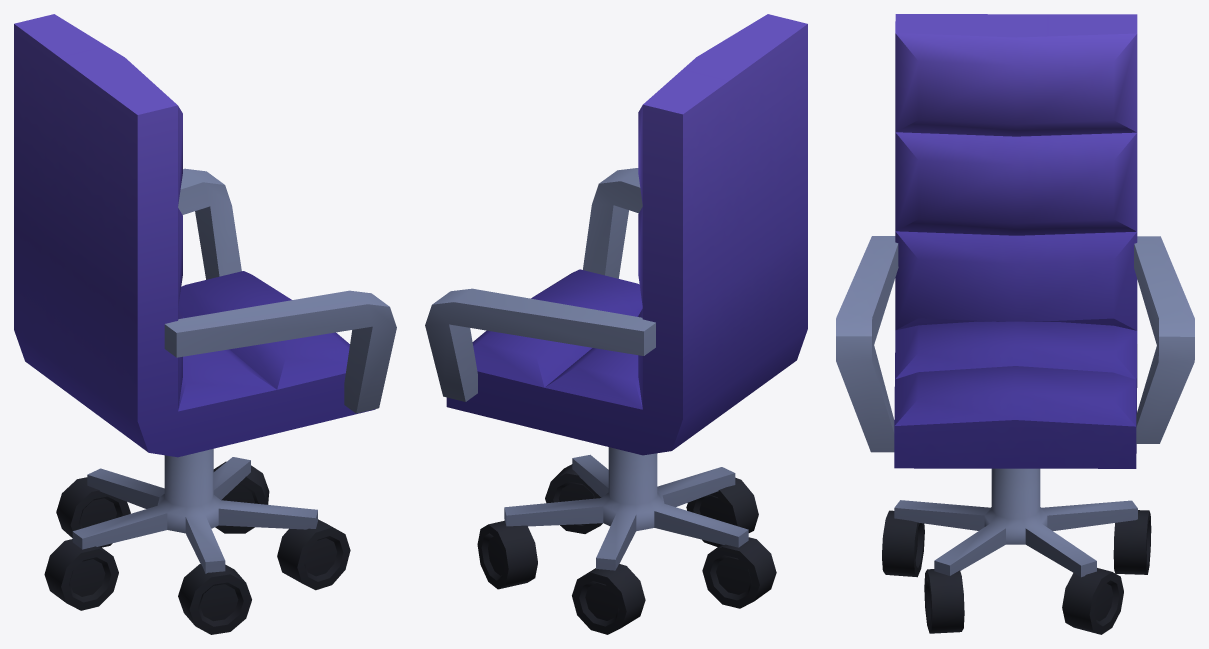
File: DeskChair.fbx
3 renders of one model, left to right at view 1: azimuth 30°, elevation 25°; view 2: azimuth 150°, elevation 25°; view 3: azimuth 270°, elevation 25°, orthographic. The views are drawn at different scales.
Visible parts, largest first — view 1: DeskChair; view 2: DeskChair; view 3: DeskChair.
Boxes of the visible parts, x1,y1,x2,y2 form: DeskChair: (14, 14, 396, 634); DeskChair: (425, 14, 807, 634); DeskChair: (836, 14, 1194, 634).
Bounding box in the file's own units: 69.98 × 137 × 85.78.
